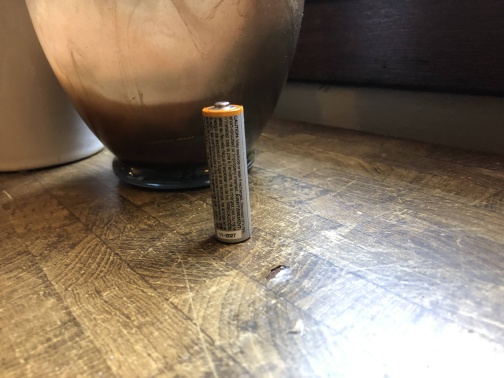battery: (199, 98, 255, 245)
